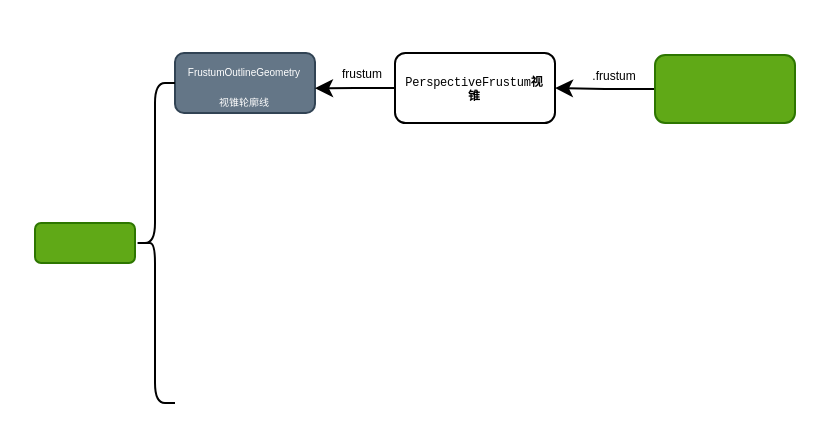
The diagram is 830 pixels wide and 438 high, and some of its shapes have lost their labels. The box of each missing label's shape, as (x1, y1, x2, y2) in pixels:
Camera: (653, 53, 795, 123)
Geometry: (33, 221, 135, 263)
